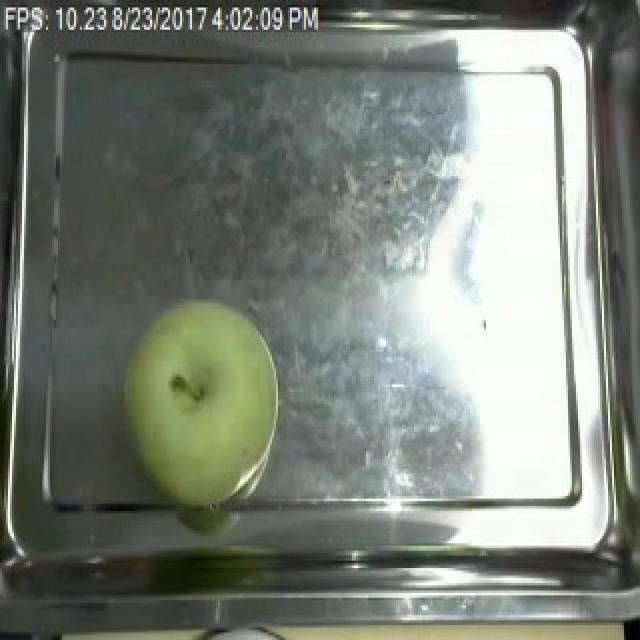50-_ripeness: (111, 291, 292, 543)
